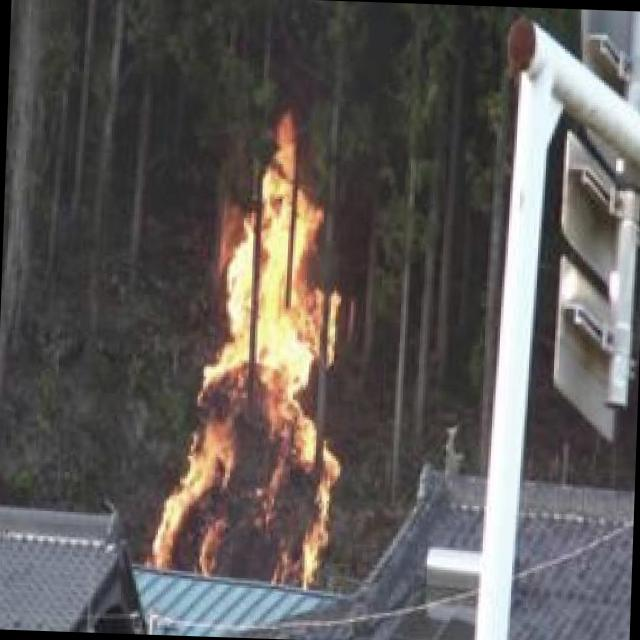Fire: (136, 74, 363, 579)
